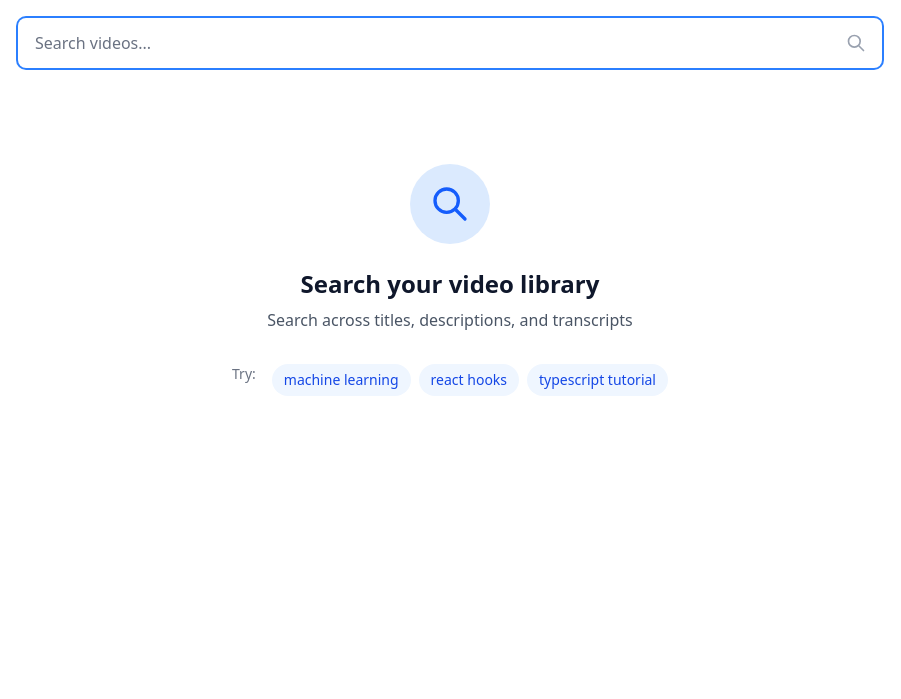
Test: SearchPage Phase 6 Tests › T036: Parallel Loading Tests › should retry only the failed section when retry is clicked
This screenshot has width=901, height=699.
Type "test" into the search field. click: (450, 43)
box: [18,18,882,68]
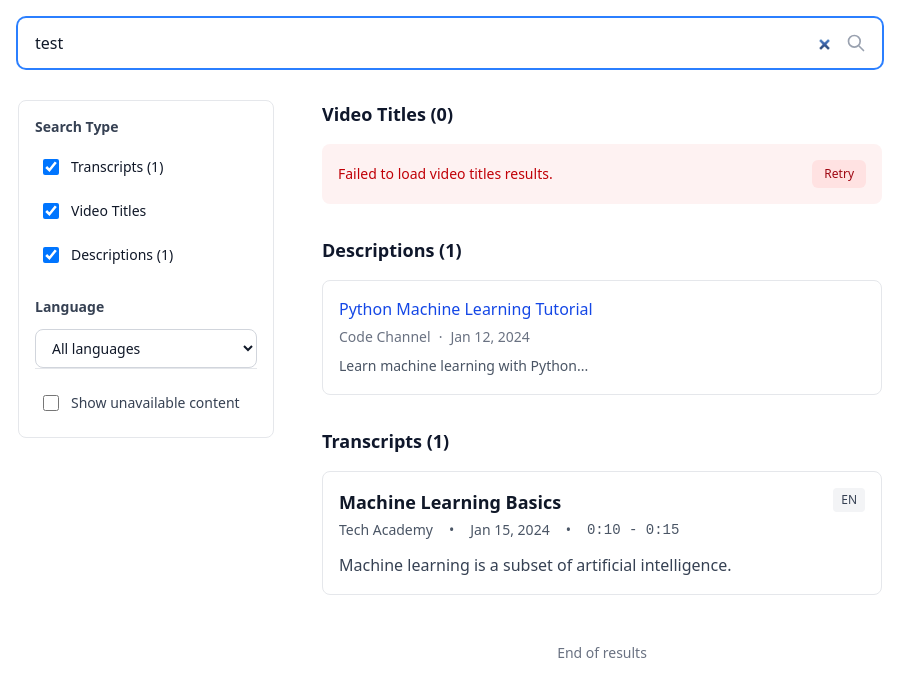
Expected: the text "Failed to load video titles results." is shown, [338,164,553,184]
Expected: the button "Retry" is shown
Click the button "Retry". click: click(839, 174)
box: [812,160,866,188]
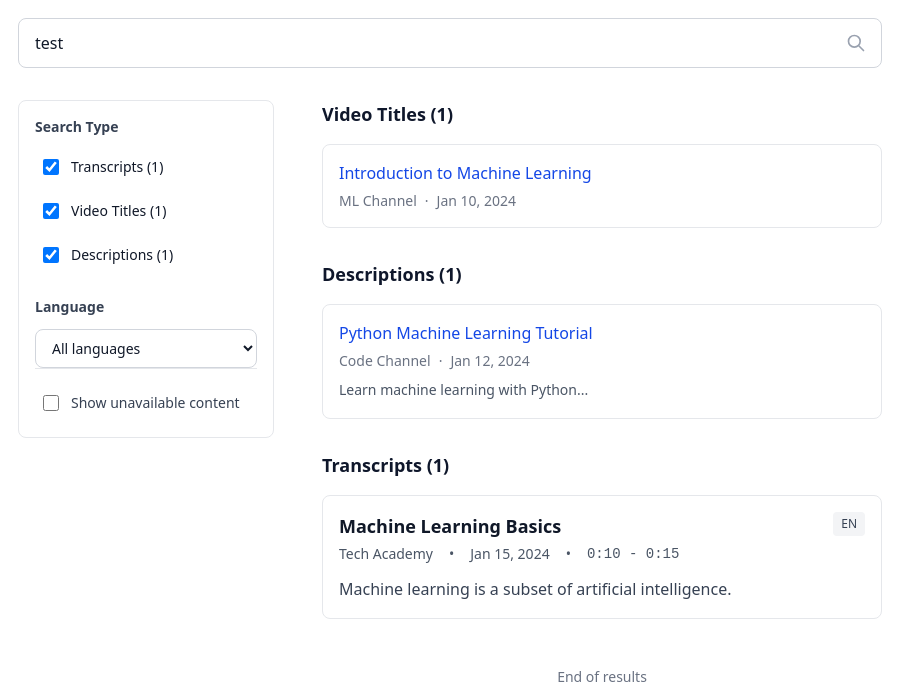
Expected: the heading "Introduction to Machine Learning" is shown, [339,162,592,184]
